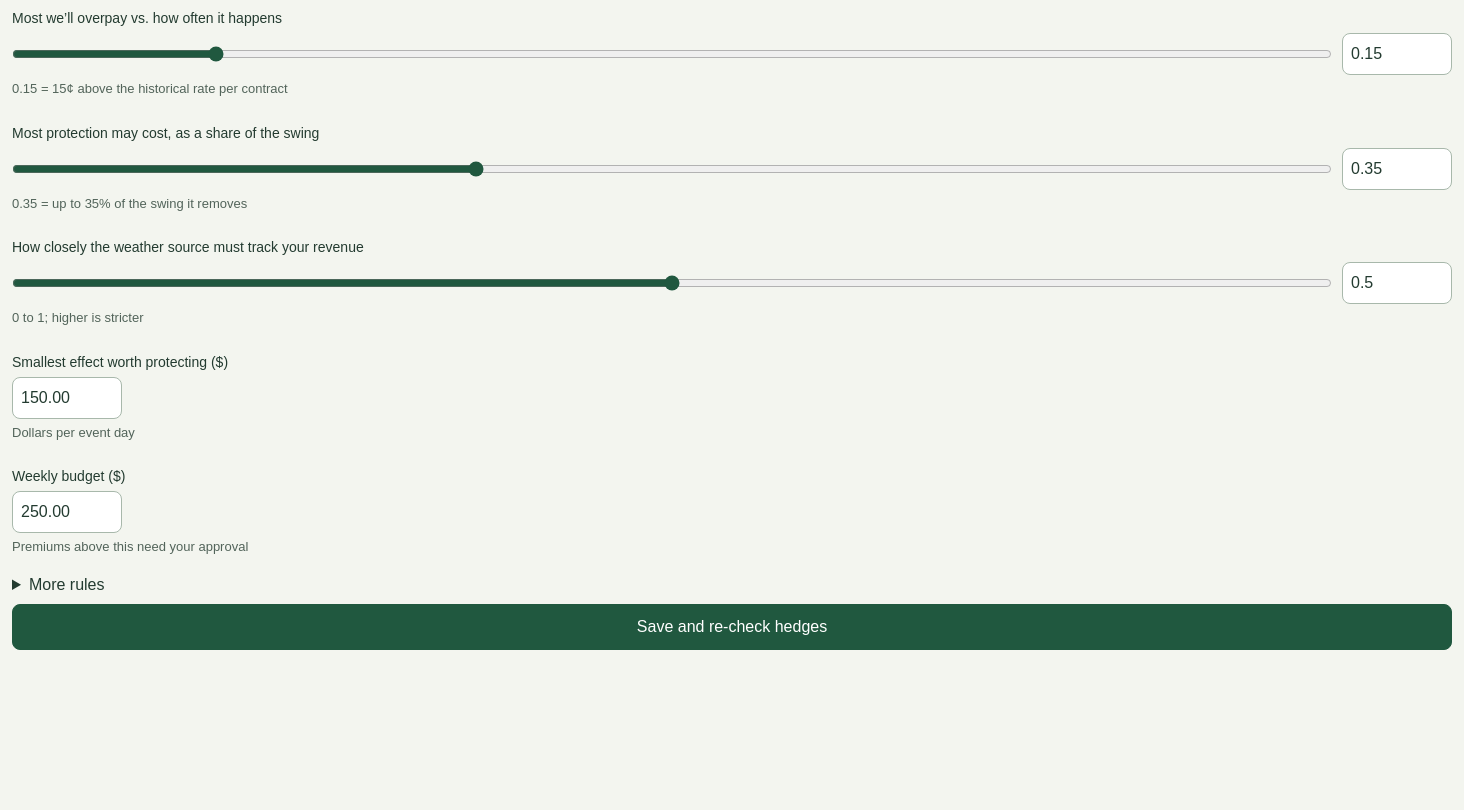
Test: C7-A19 settings validation › disables Save for {} = abc
The image size is (1464, 810).
expect the button "Save and re-check hedges" is enabled: met, box [12,604,1452,650]
Replace the text in the field labelled "Weekly budget ($)" with "abc" at (67, 512), box [12,491,122,533]
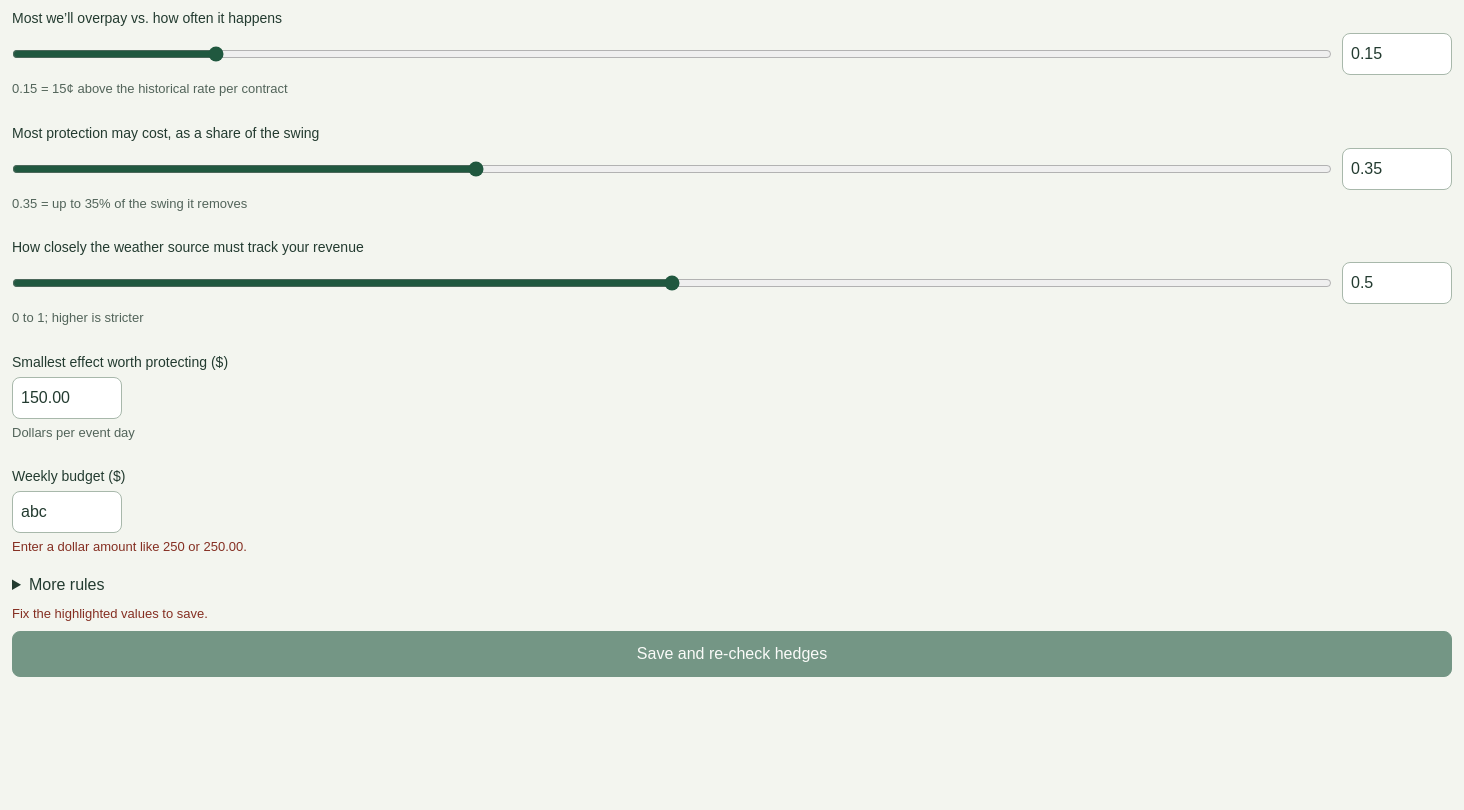
expect the button "Save and re-check hedges" is disabled: met, box [12,631,1452,677]
expect the text "Enter a dollar amount like 250 or 250.00." is shown: met, box [12,539,247,554]
